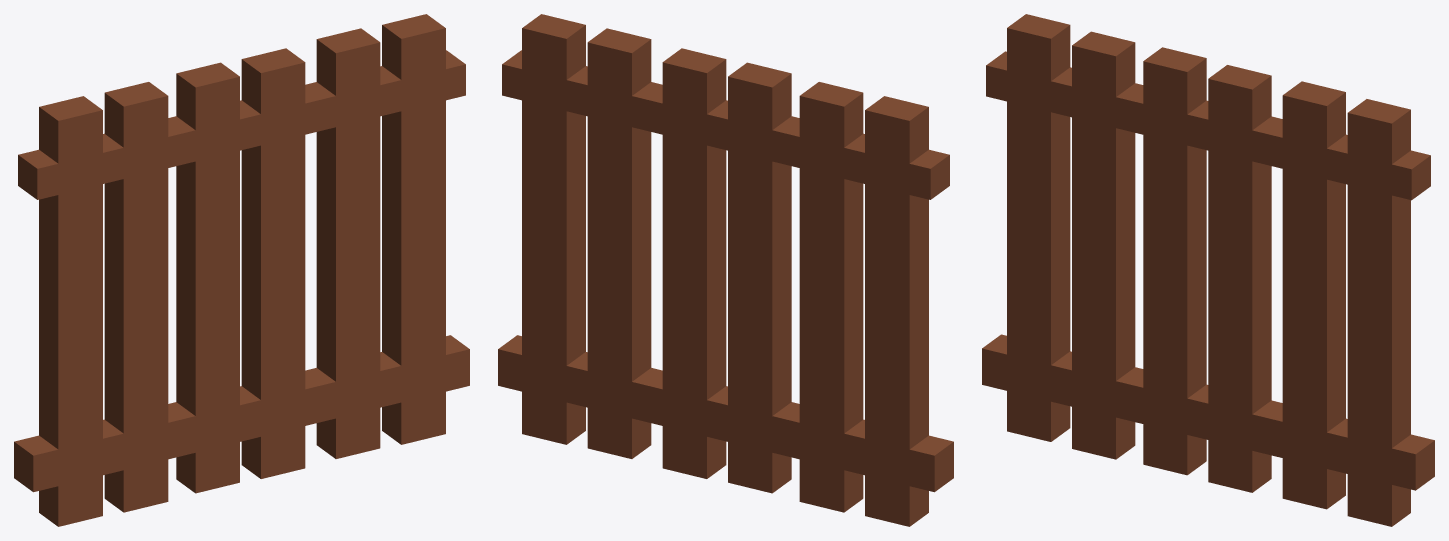
The model's file is Fence.fbx.
The picture shows the model from 3 angles, left to right: view 1: azimuth 30°, elevation 25°; view 2: azimuth 150°, elevation 25°; view 3: azimuth 330°, elevation 25°; orthographic projection.
Visible parts, largest first — view 1: Cube; view 2: Cube; view 3: Cube.
Boxes of the visible parts, left/top/right/bottom form: Cube: left=14, top=14, right=469, bottom=526; Cube: left=498, top=14, right=953, bottom=526; Cube: left=982, top=14, right=1434, bottom=526.
Size of the model in its own units: 460 by 411 by 35.24.
